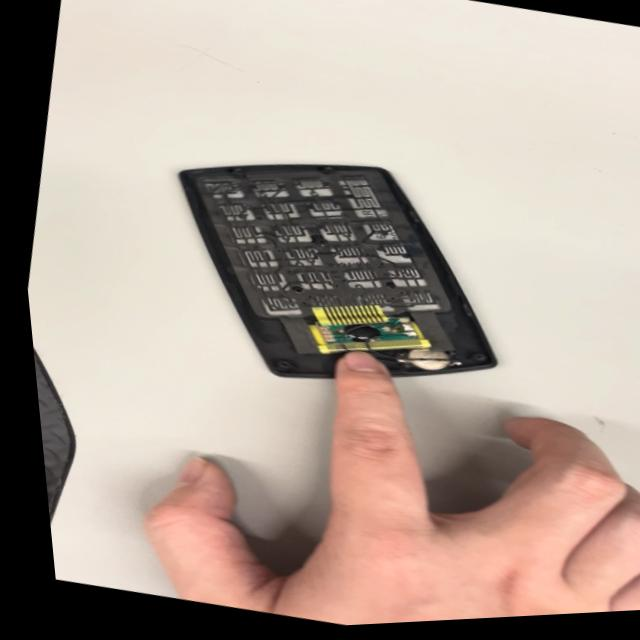front_panel: (127, 111, 543, 423)
